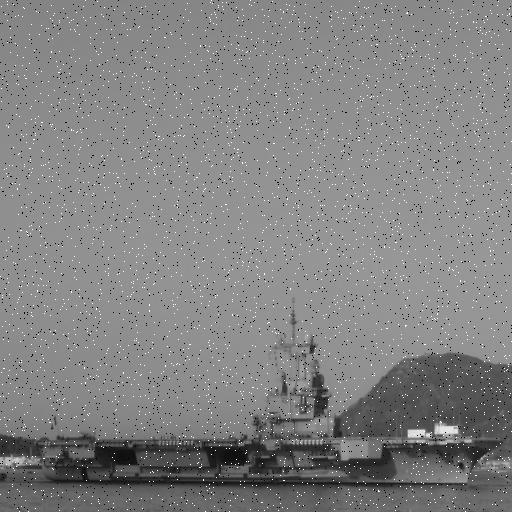Portanaves: (36, 296, 507, 495)
